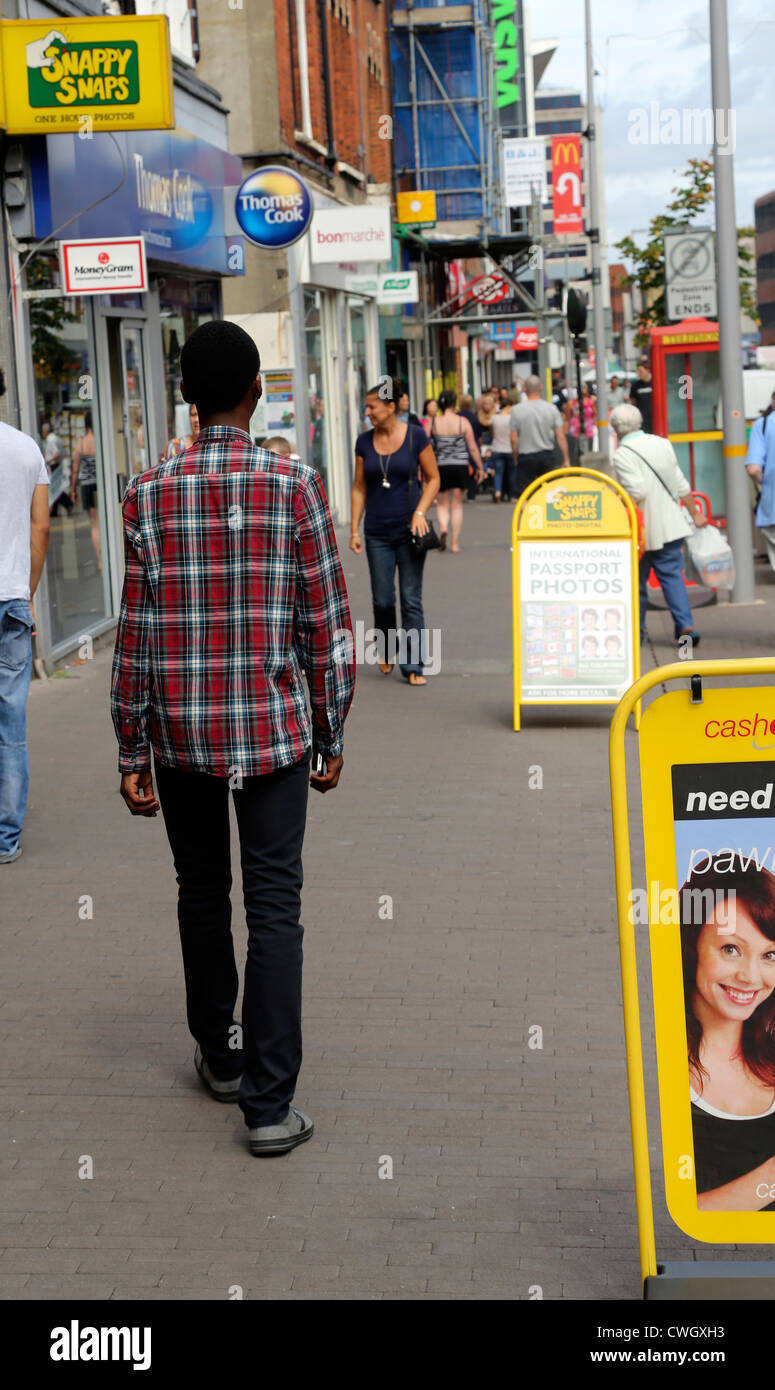person: (104, 316, 355, 1157), (1, 339, 59, 863), (348, 370, 439, 685), (594, 394, 691, 663), (430, 387, 476, 555), (505, 374, 572, 476)
